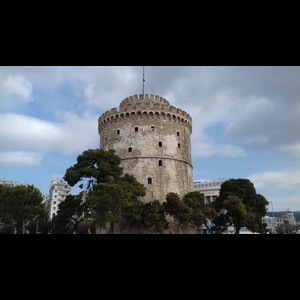White Tower: (93, 67, 195, 234)
